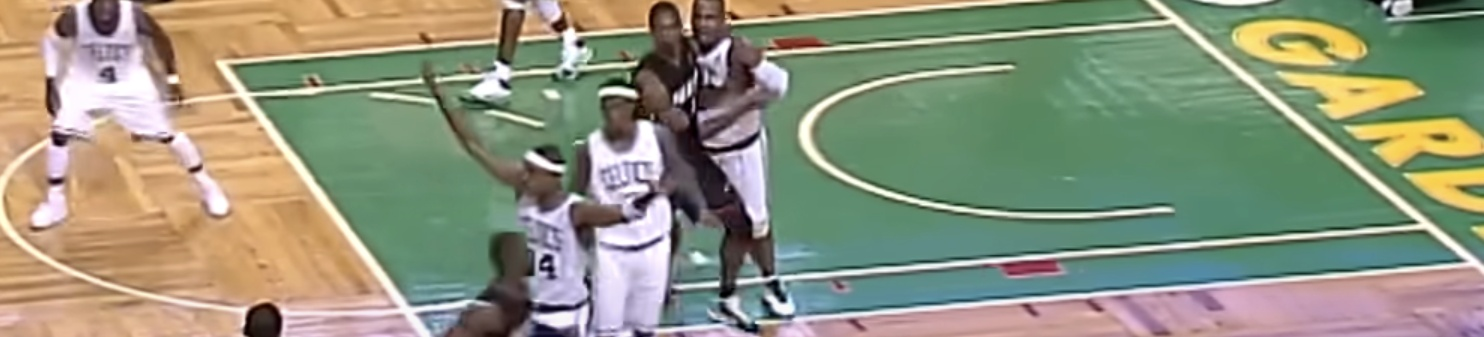endLine: (1152, 1, 1481, 267)
freeThrow: (223, 63, 427, 337)
lane: (629, 265, 1477, 334), (224, 1, 1041, 63)
